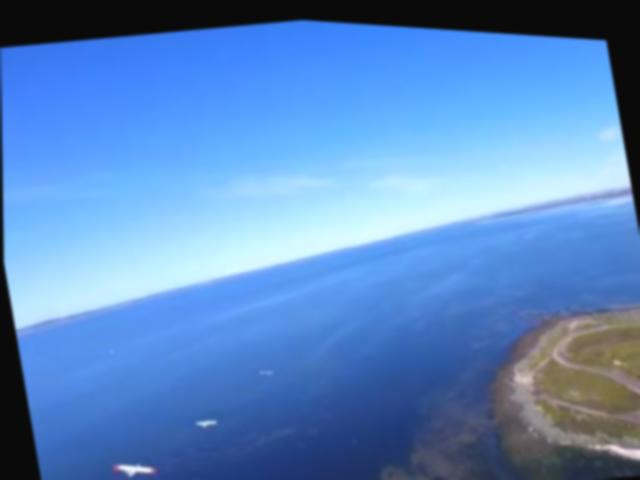uav: (108, 455, 155, 480), (191, 411, 217, 427)
